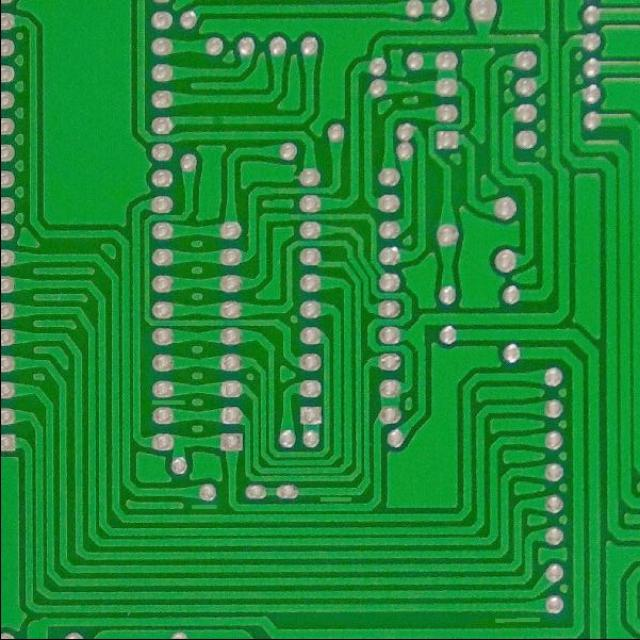Spurious_Cooper: (489, 612, 544, 628), (148, 395, 189, 408), (316, 492, 355, 503), (190, 500, 220, 512)
